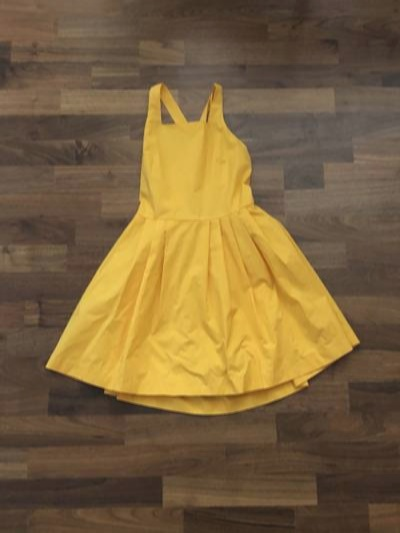Dress: (34, 40, 373, 431)
